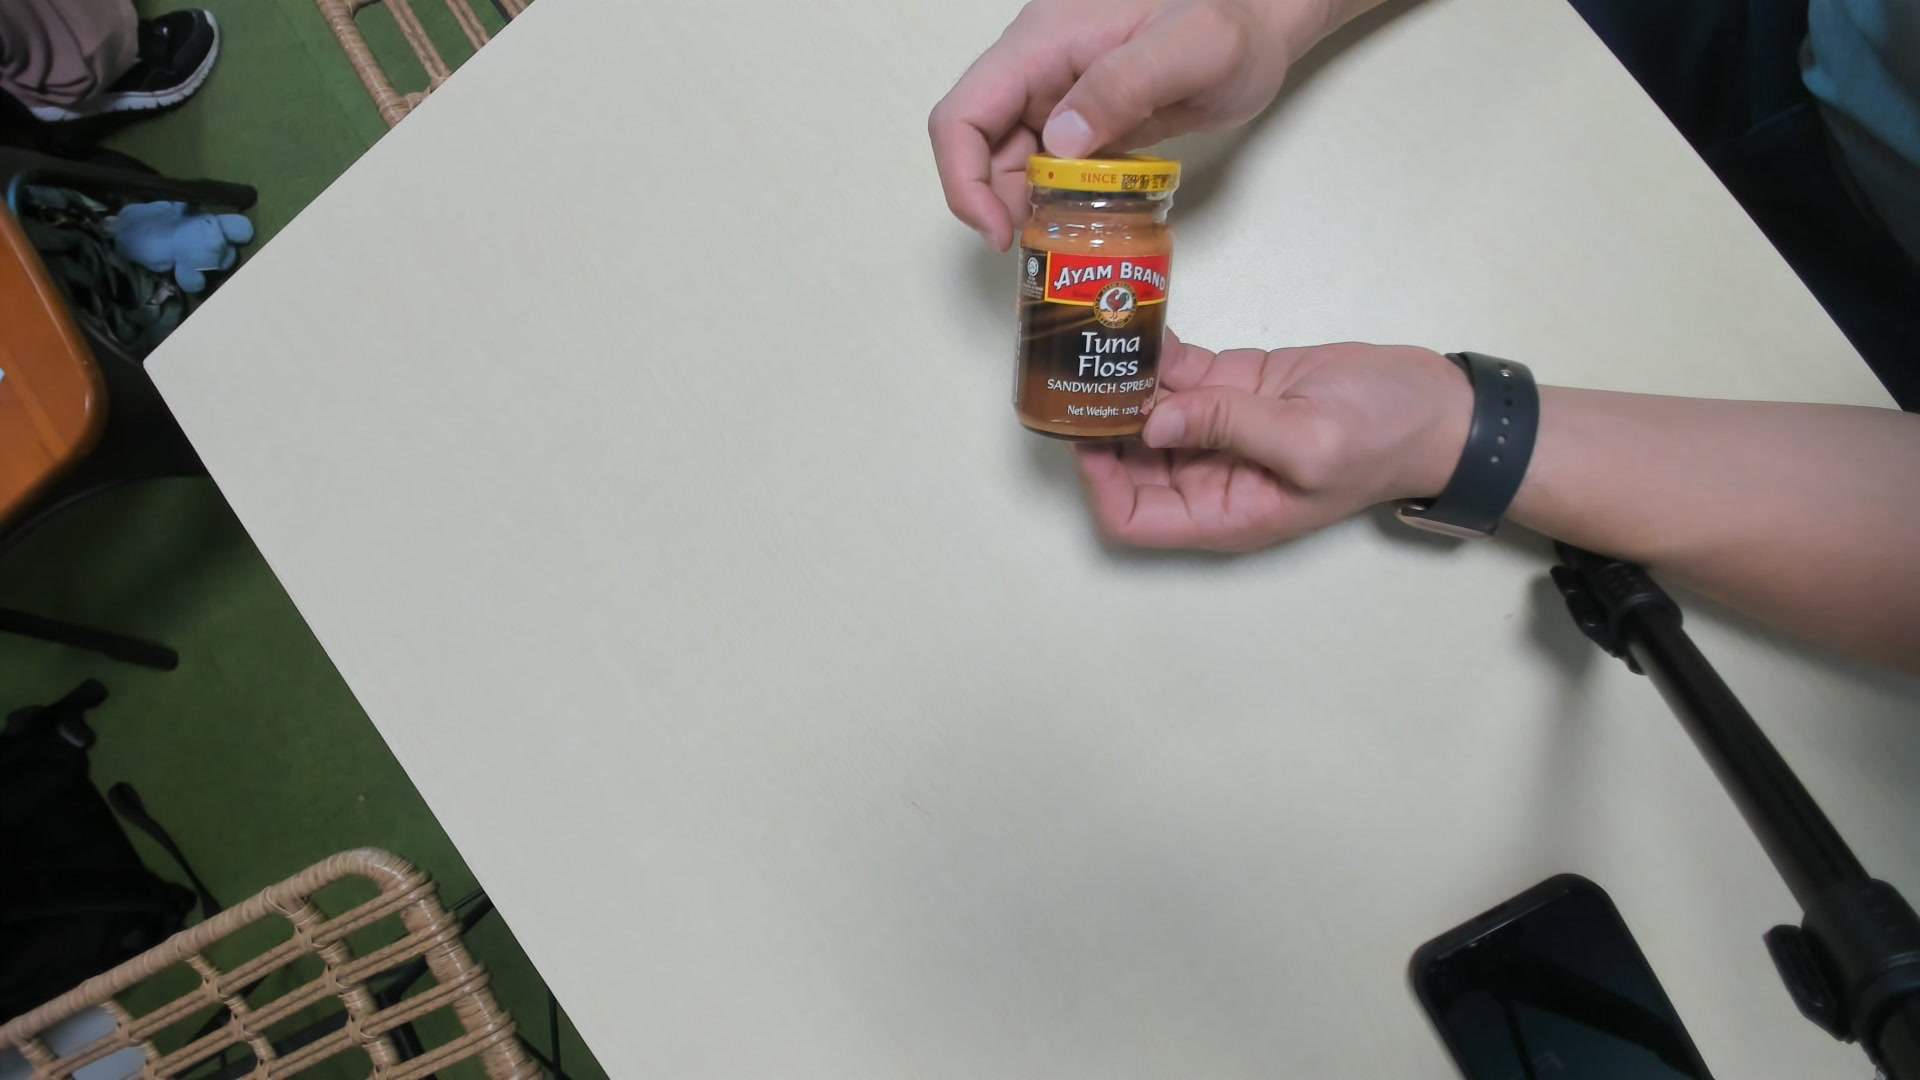OtherSauceDressing_200-299g_Halal_NonHealthy: (1007, 149, 1178, 464)
